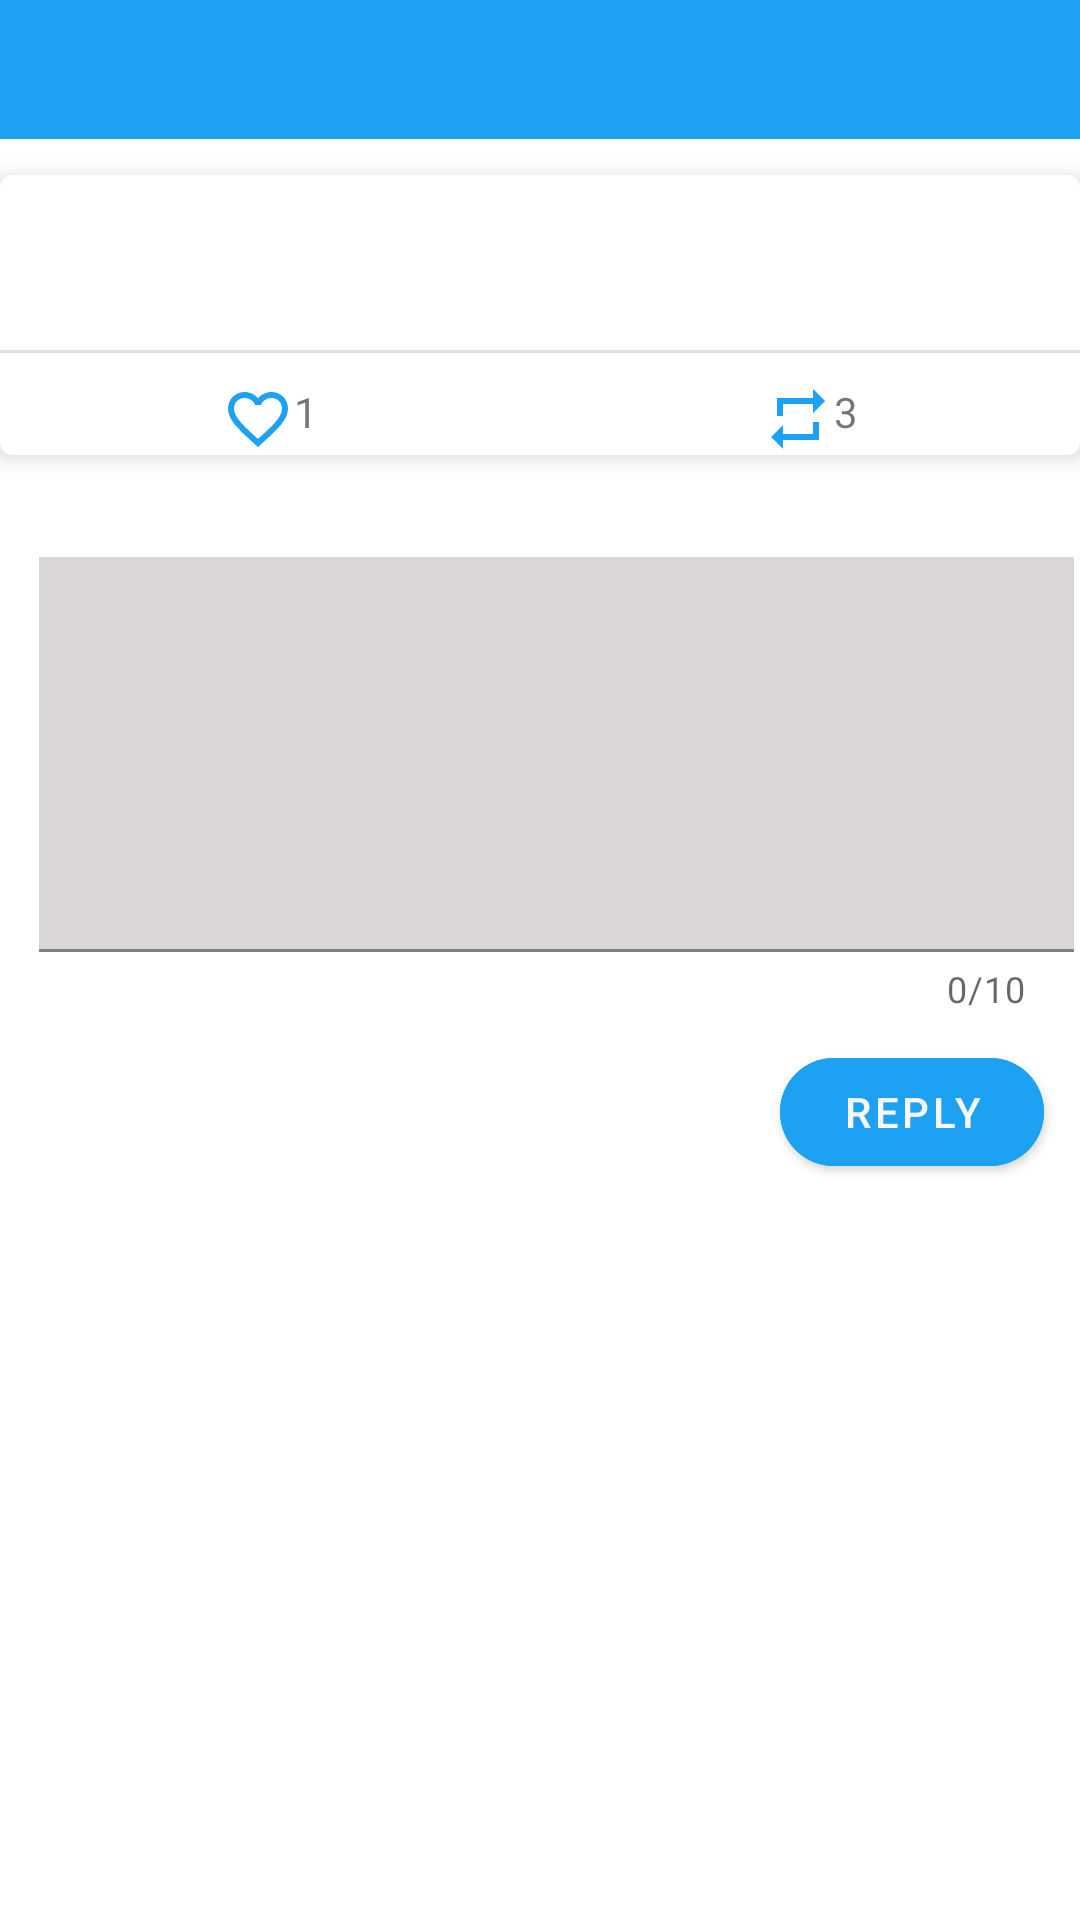

Named icons in this screenshot (1080×1920) and their centers, [x,y]:
favorite border: [258,419]
repeat: [798,419]
